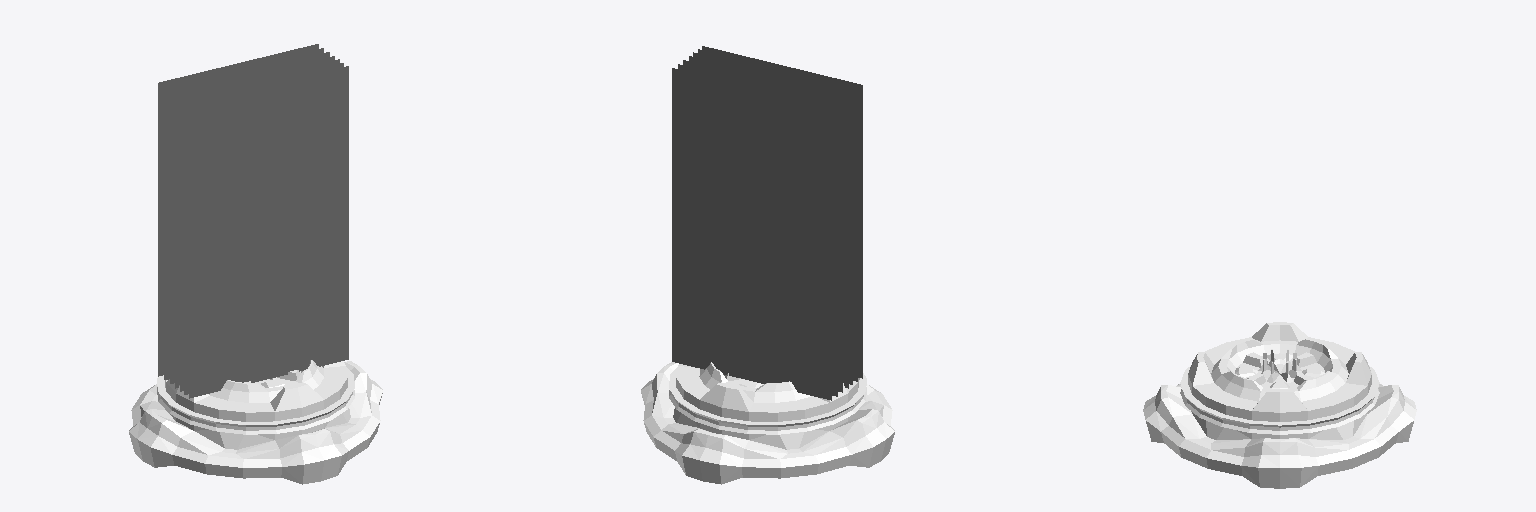
Rendered from hologram_base.obj.
3 views of the same model, side by side, from view 1: azimuth 30°, elevation 25°; view 2: azimuth 150°, elevation 25°; view 3: azimuth 270°, elevation 25° (orthographic).
Parts seen in each view (by area): view 1: Plane004, Cylinder001, Plane007, Plane006, Plane005, Plane003, Plane001, Plane002; view 2: Plane007, Cylinder001, Plane006, Plane001, Plane005, Plane004, Plane003, Plane002; view 3: Cylinder001.
Part boxes in pixels (x1,y1,x2,y2): Plane004: (189, 66, 348, 398); Cylinder001: (129, 360, 382, 484); Plane007: (158, 44, 318, 376); Plane006: (164, 48, 323, 379); Plane005: (170, 52, 329, 383); Plane003: (184, 63, 343, 394); Plane001: (175, 56, 334, 388); Plane002: (180, 59, 339, 391); Plane007: (672, 68, 831, 400); Cylinder001: (641, 362, 894, 484); Plane006: (678, 64, 837, 396); Plane001: (689, 56, 848, 388); Plane005: (683, 60, 842, 392); Plane004: (702, 46, 862, 378); Plane003: (698, 49, 857, 381); Plane002: (693, 52, 852, 384); Cylinder001: (1143, 322, 1416, 488).
Size of the model in its own units: 46.85 by 68.32 by 46.85.